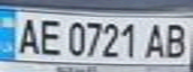0: (63, 18, 87, 57)
1: (118, 19, 142, 58)
2: (100, 19, 124, 58)
7: (81, 19, 103, 57)
A: (12, 15, 42, 56), (142, 19, 172, 60)
B: (160, 20, 190, 60)
E: (33, 16, 63, 56)
